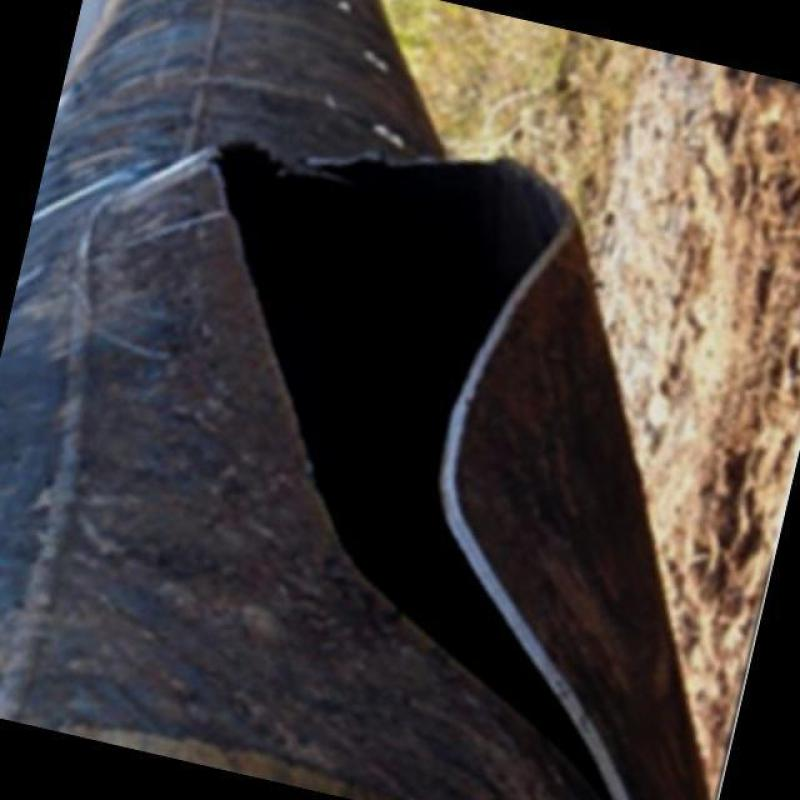Fracture: (200, 150, 622, 620)
